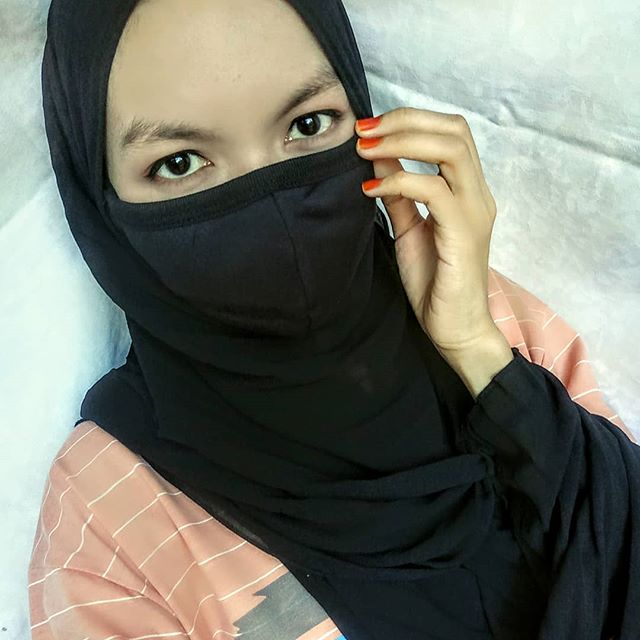homemade: (98, 140, 401, 363)
